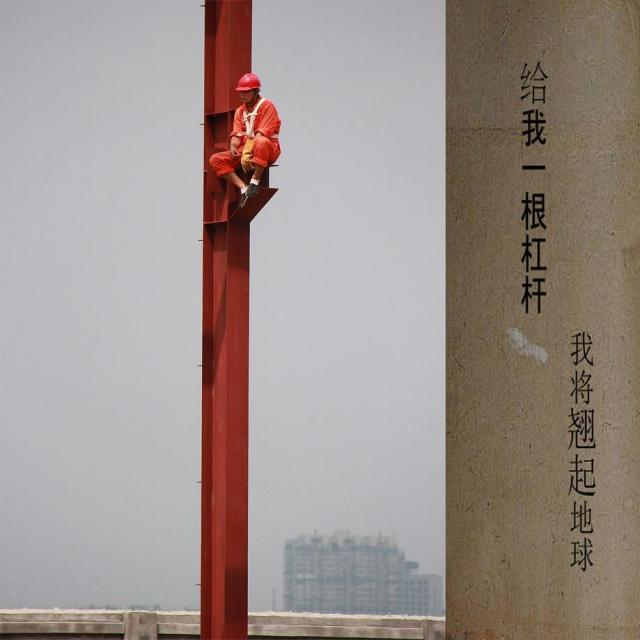boots: (246, 175, 264, 196), (237, 185, 249, 207)
gloves: (237, 133, 259, 170), (227, 131, 244, 157)
hard-hat: (235, 73, 261, 91)
person: (207, 72, 281, 208)
ppe-suit: (207, 72, 277, 166)
